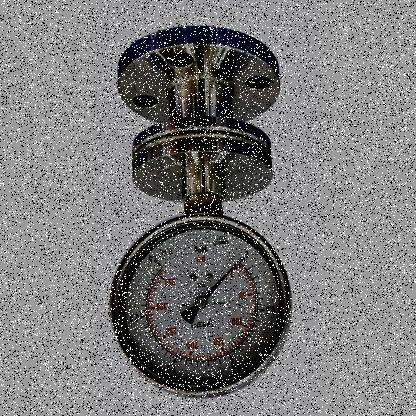needle: (203, 259, 241, 300)
